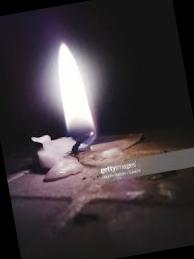Fire: (31, 36, 107, 160)
